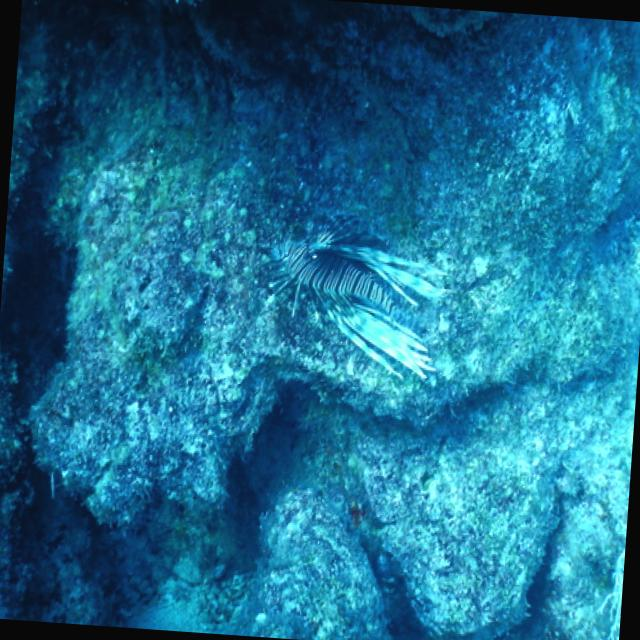Aslan Baligi: (257, 208, 455, 386)
